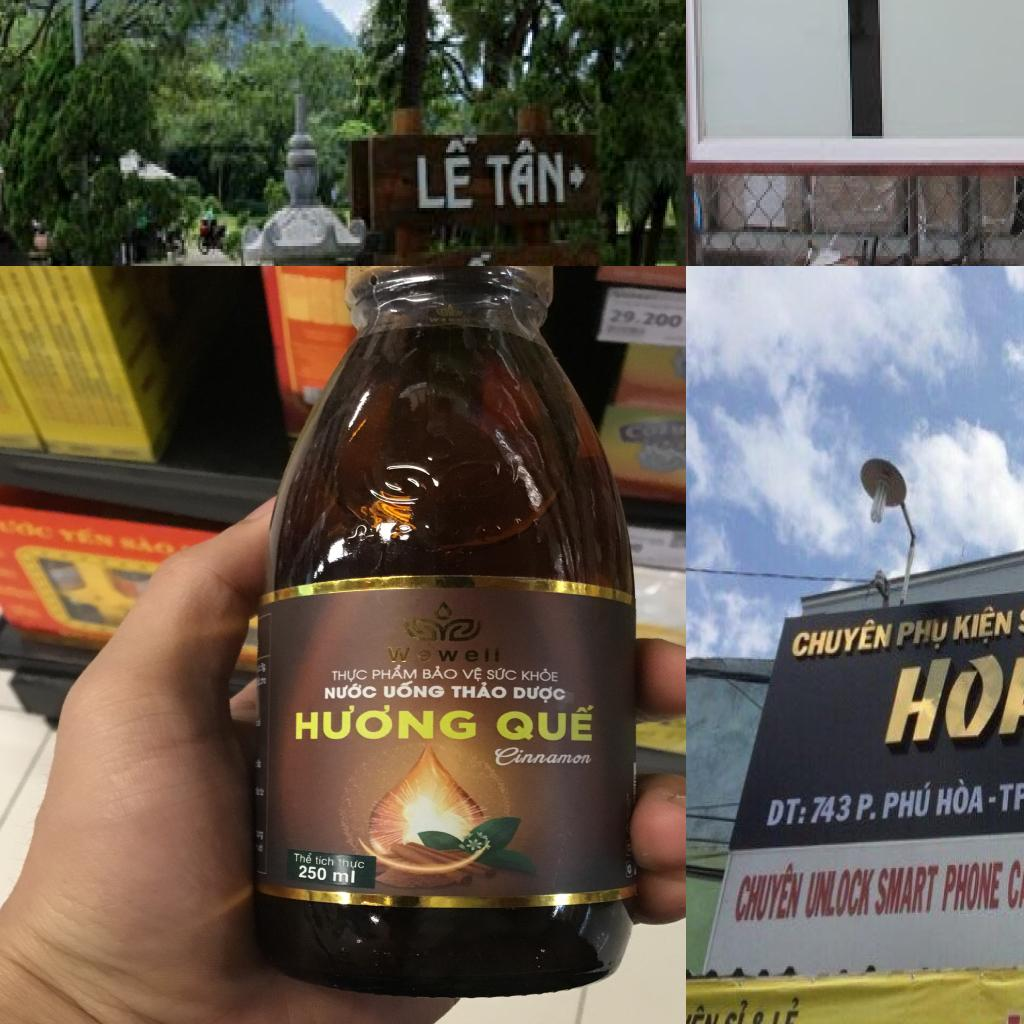text: (882, 627, 1024, 749), (291, 702, 481, 746), (487, 129, 569, 217), (413, 135, 485, 217), (732, 862, 806, 923), (493, 704, 604, 744), (790, 617, 895, 659), (802, 866, 876, 922), (872, 864, 940, 918), (855, 781, 934, 825), (941, 861, 1004, 914), (380, 644, 511, 666), (952, 604, 1016, 647), (489, 746, 597, 768), (399, 246, 513, 266), (936, 777, 985, 819), (606, 306, 686, 331), (896, 616, 949, 653), (56, 522, 116, 551), (0, 512, 56, 541), (119, 530, 177, 556), (766, 797, 810, 829), (810, 795, 852, 826), (1004, 847, 1024, 911), (382, 682, 448, 700), (766, 993, 804, 1024), (294, 866, 358, 884), (322, 682, 379, 702), (512, 683, 569, 703), (450, 682, 509, 700), (716, 999, 750, 1024), (686, 1002, 724, 1024), (372, 665, 420, 682), (324, 667, 369, 683), (522, 666, 565, 682), (422, 666, 459, 682), (486, 666, 518, 682), (336, 855, 368, 871), (461, 666, 484, 681), (293, 849, 314, 865), (743, 1009, 765, 1024), (315, 854, 336, 867)
